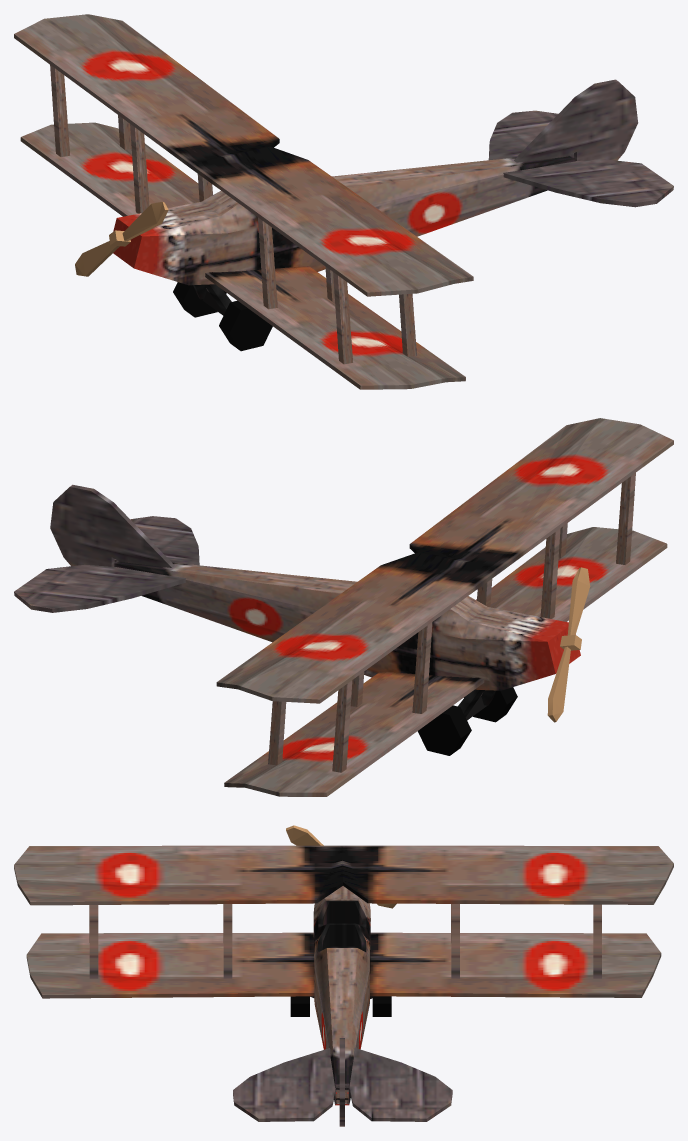
File: airplane90.dae
3 views of the same model, one above another, from view 1: azimuth 30°, elevation 25°; view 2: azimuth 150°, elevation 25°; view 3: azimuth 270°, elevation 25° (orthographic). The views are drawn at different scales.
Parts seen in each view (by area): view 1: wings, airplane_b, elevator, wing_poles, rudder, wheels, propeller, landing_ge; view 2: wings, airplane_b, elevator, wing_poles, rudder, wheels, propeller, landing_ge; view 3: wings, elevator, airplane_b, wing_poles, wheels, propeller, rudder.
Boxes of the visible parts, <box> form: wings: <box>14,14,473,389</box>; airplane_b: <box>113,155,574,285</box>; elevator: <box>488,110,673,207</box>; wing_poles: <box>50,65,416,364</box>; rudder: <box>514,79,638,162</box>; wheels: <box>173,282,272,351</box>; propeller: <box>75,201,168,276</box>; landing_ge: <box>193,284,231,315</box>; wings: <box>216,418,673,796</box>; airplane_b: <box>114,560,580,690</box>; elevator: <box>14,516,199,612</box>; wing_poles: <box>268,473,635,772</box>; rudder: <box>50,484,174,567</box>; wheels: <box>417,687,517,755</box>; propeller: <box>547,567,590,722</box>; landing_ge: <box>458,689,495,720</box>; wings: <box>14,845,673,998</box>; elevator: <box>233,1047,452,1121</box>; airplane_b: <box>313,886,370,1105</box>; wing_poles: <box>89,904,601,978</box>; wheels: <box>290,996,391,1016</box>; propeller: <box>286,825,396,908</box>; rudder: <box>339,1038,344,1126</box>.
Bounding box in the file's own units: 7.9 × 2.43 × 9.53.
